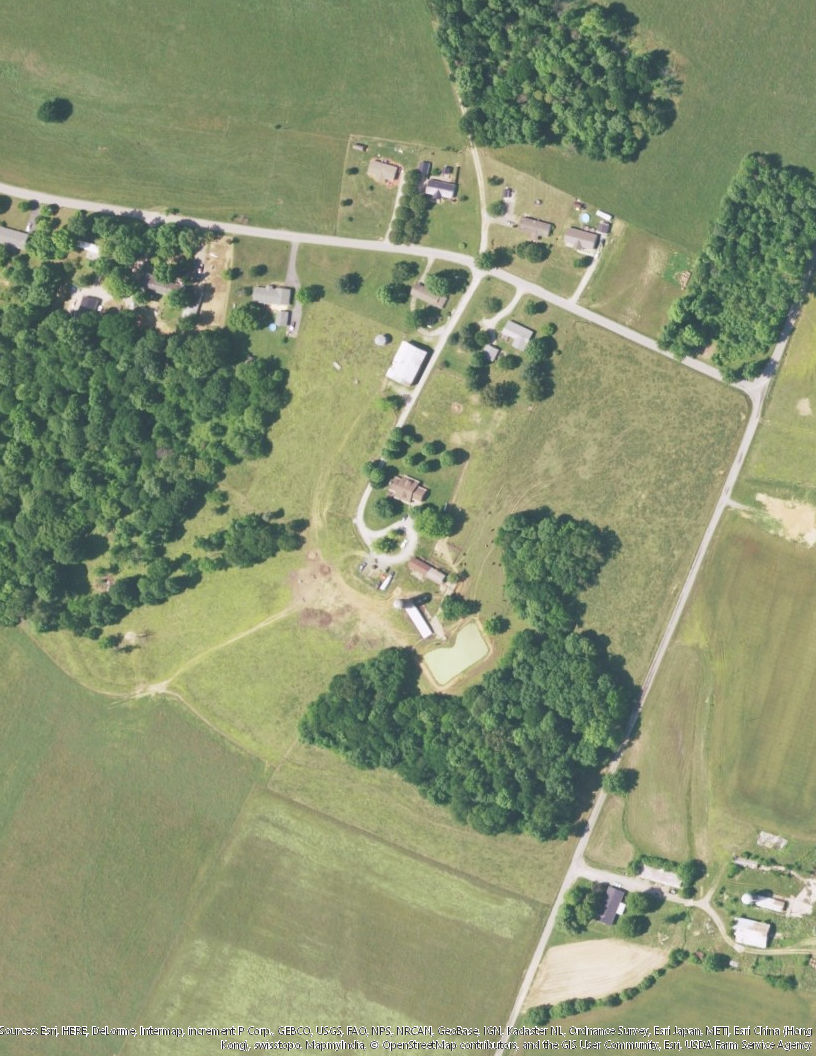cafo: (383, 335, 430, 391), (395, 600, 436, 643)
